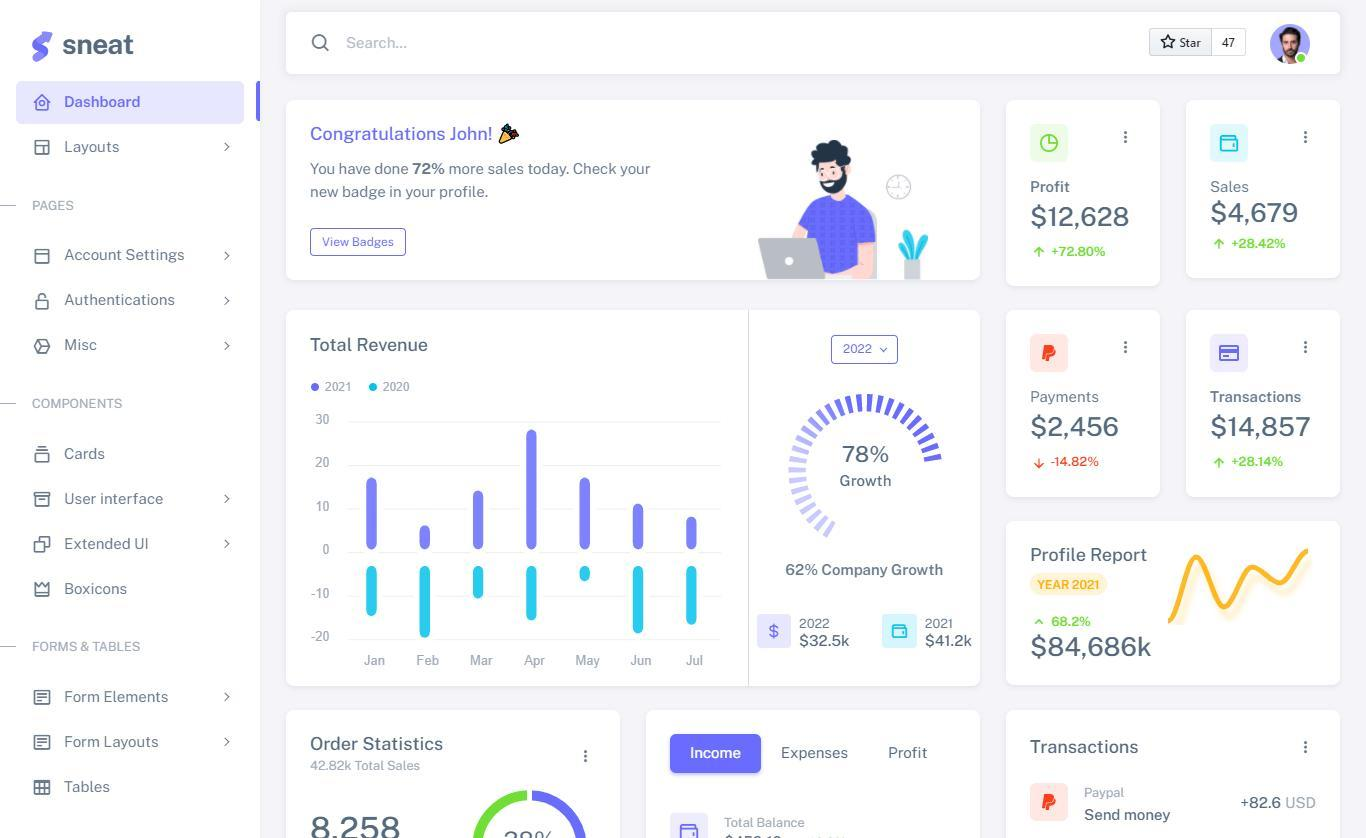button: (669, 734, 763, 774), (312, 229, 407, 256), (1150, 31, 1244, 58)
dropdown: (831, 335, 899, 365)
icon: (306, 30, 336, 60), (31, 773, 56, 806), (29, 684, 56, 714), (31, 134, 56, 164), (30, 487, 57, 514), (30, 532, 57, 559), (31, 90, 56, 116), (31, 732, 56, 758), (32, 576, 54, 604), (32, 288, 53, 317), (34, 244, 55, 272), (31, 442, 54, 467), (31, 335, 54, 359), (1219, 344, 1244, 366), (1039, 133, 1061, 155), (1220, 133, 1242, 155), (1039, 344, 1061, 366), (1298, 737, 1316, 760), (1298, 127, 1315, 151), (1041, 793, 1060, 813), (891, 624, 912, 642), (1120, 128, 1136, 148), (1301, 337, 1314, 360), (768, 622, 782, 643), (1121, 335, 1132, 360)
